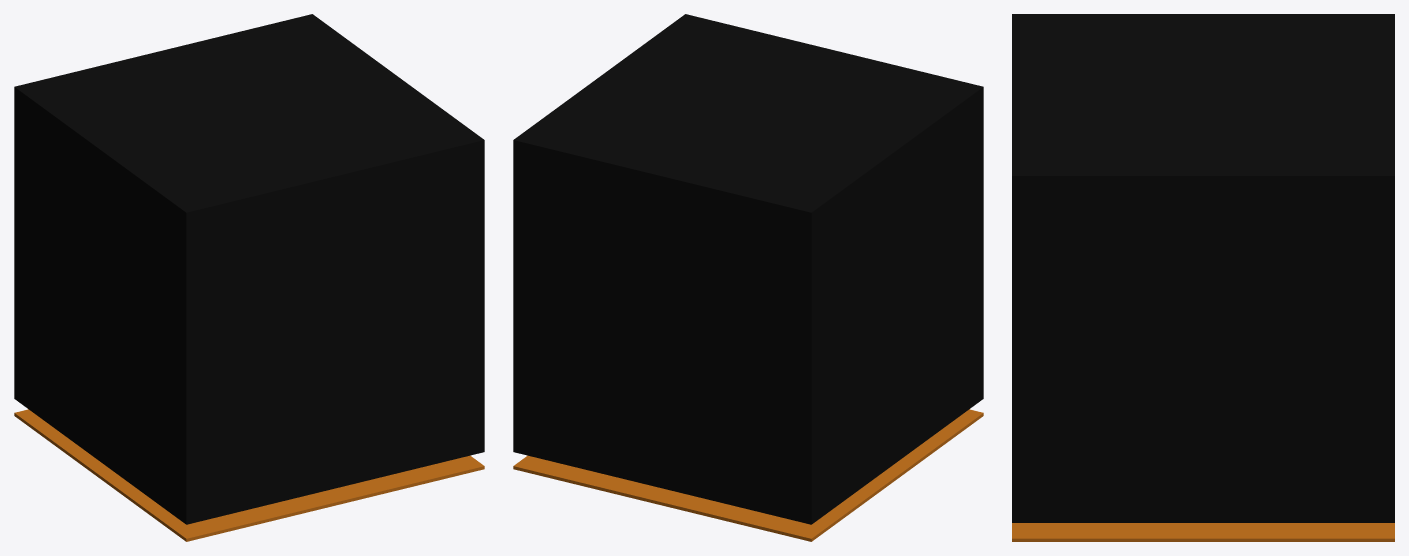
3 views of the same model, side by side, from view 1: azimuth 30°, elevation 25°; view 2: azimuth 150°, elevation 25°; view 3: azimuth 270°, elevation 25° (orthographic). The views are drawn at different scales.
Parts seen in each view (by area): view 1: Cube, red-3; view 2: Cube, red-3; view 3: Cube, red-3.
Boxes of the visible parts, left/top/right/bottom form: Cube: left=14, top=14, right=484, bottom=524; red-3: left=14, top=409, right=484, bottom=541; Cube: left=513, top=14, right=983, bottom=524; red-3: left=513, top=409, right=983, bottom=541; Cube: left=1012, top=14, right=1394, bottom=522; red-3: left=1012, top=523, right=1394, bottom=541.
Bounding box in the file's own units: 2 × 2.11 × 2.
